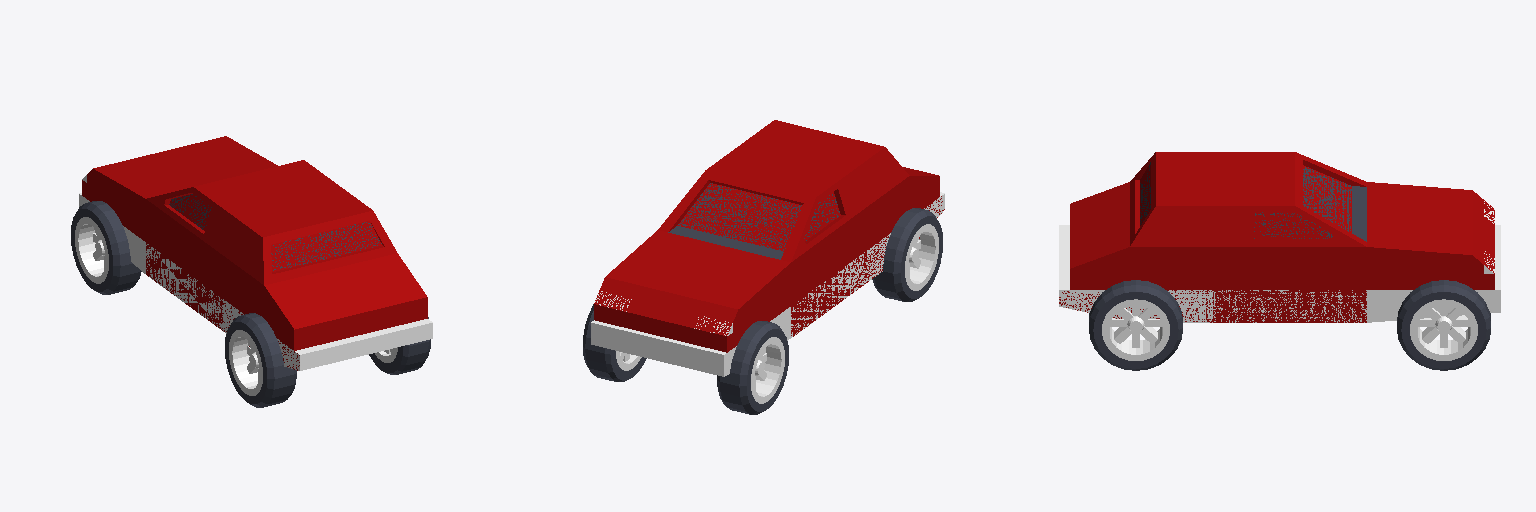
Rendered from car.obj.
The picture shows the model from 3 angles: view 1: azimuth 30°, elevation 25°; view 2: azimuth 150°, elevation 25°; view 3: azimuth 270°, elevation 25°; orthographic projection.
Size of the model in its own units: 1.23 by 1.11 by 2.87.